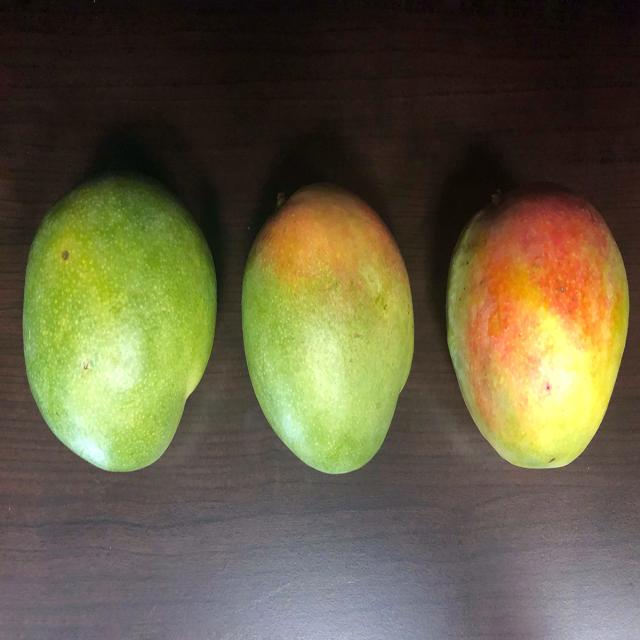mango: (17, 160, 220, 493), (445, 207, 640, 473), (246, 193, 424, 471)
